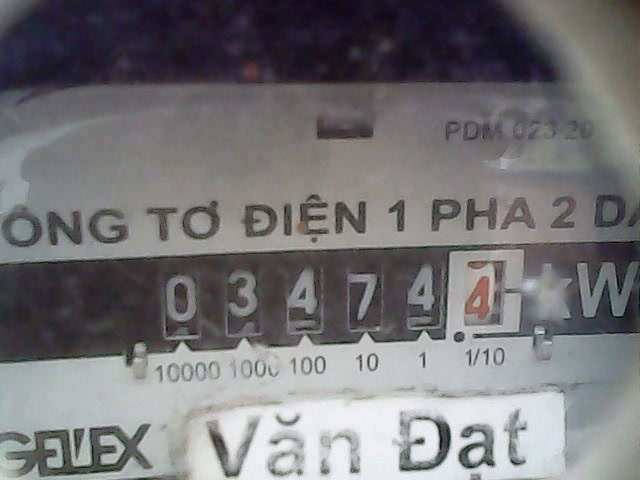phy_plate: (149, 241, 527, 343)
